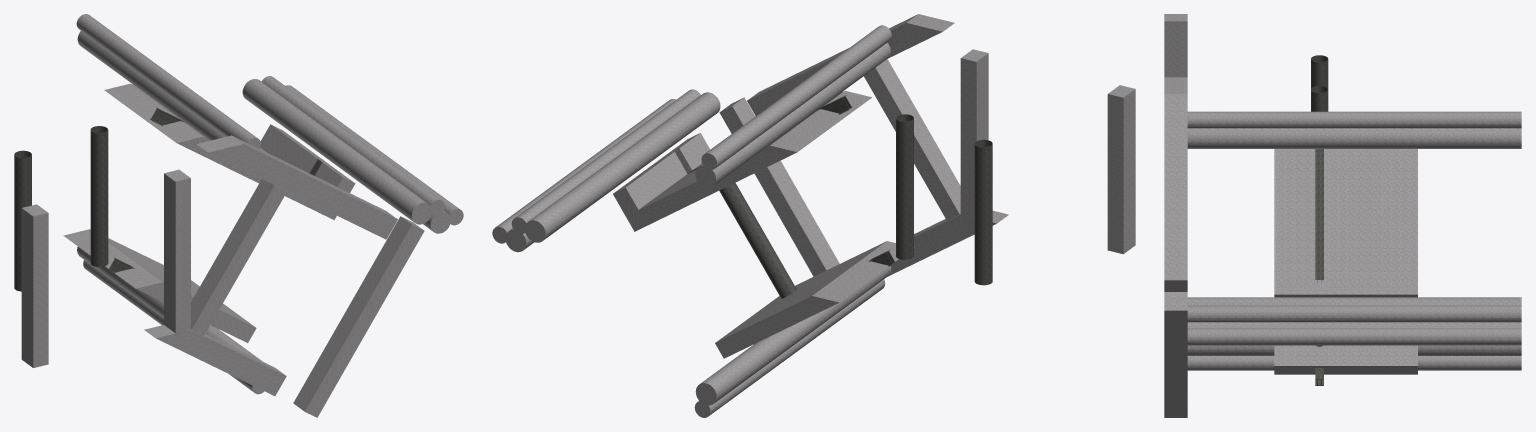
The picture shows the model from 3 angles, left to right: view 1: azimuth 30°, elevation 25°; view 2: azimuth 150°, elevation 25°; view 3: azimuth 270°, elevation 25°; orthographic projection. The views are drawn at different scales.
Visible parts, largest first — view 1: 0_2_0_3_0_0; view 2: 0_2_0_3_0_0; view 3: 0_2_0_3_0_0.
Boxes of the visible parts, x1,y1,x2,y2 form: 0_2_0_3_0_0: (14,14,463,417); 0_2_0_3_0_0: (492,14,1135,417); 0_2_0_3_0_0: (1164,14,1521,417).
Size of the model in its own units: 17.39 by 10.98 by 12.33.
26 materials, 26 textured.
